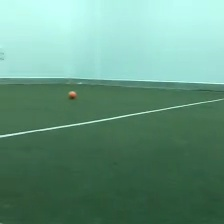ball: (67, 88, 77, 99)
